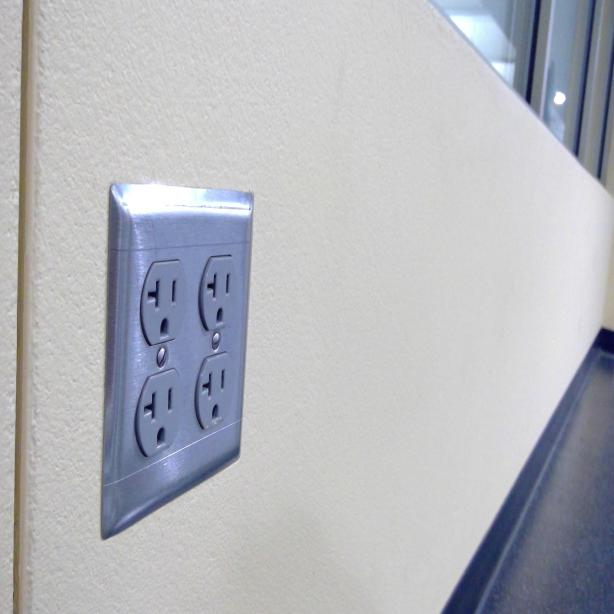typeb: (142, 264, 184, 341), (138, 380, 180, 448), (202, 258, 234, 326), (197, 360, 231, 422)
